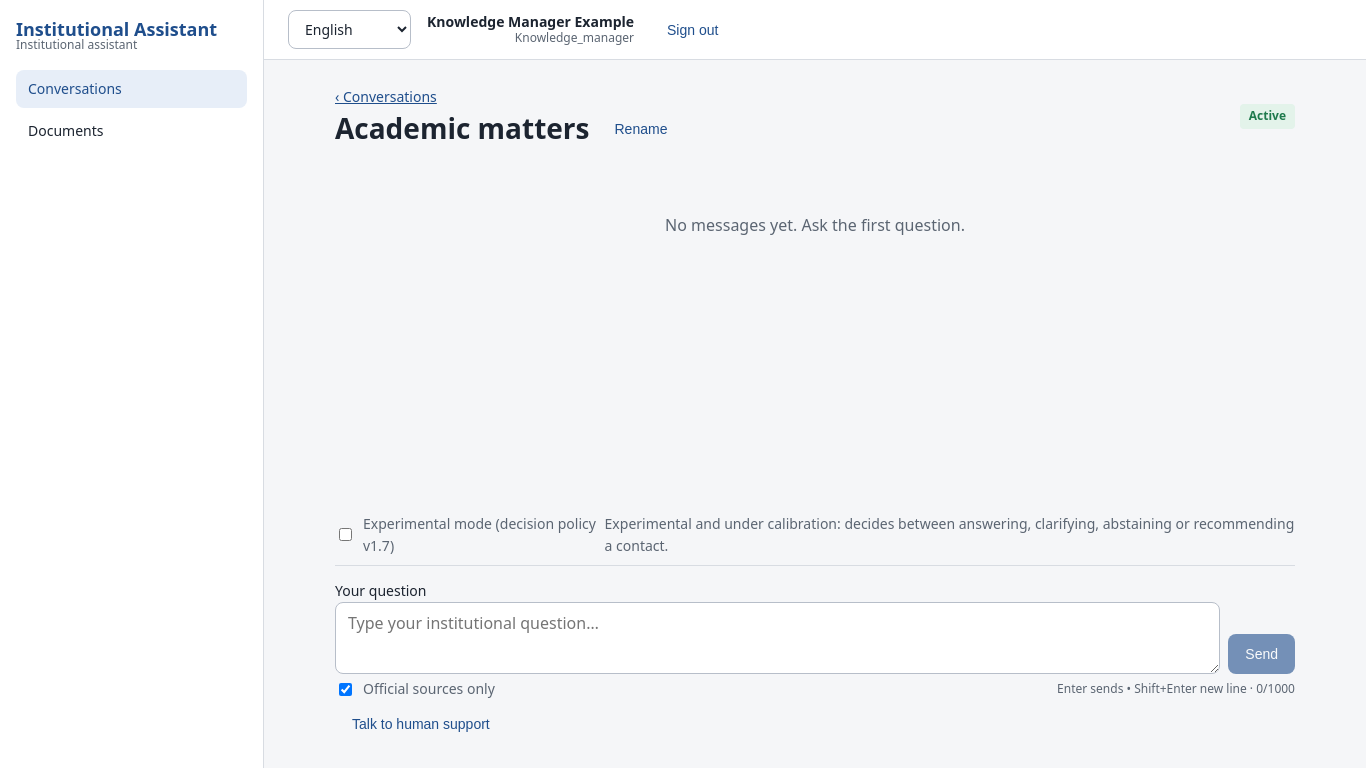
Scenario: experimental decision policy mode › keeps B0 as the default and uses the policy endpoint only when selected
Click the checkbox labelled "Experimental mode (decision policy v1.7)": point(346, 535) [339, 528, 352, 541]
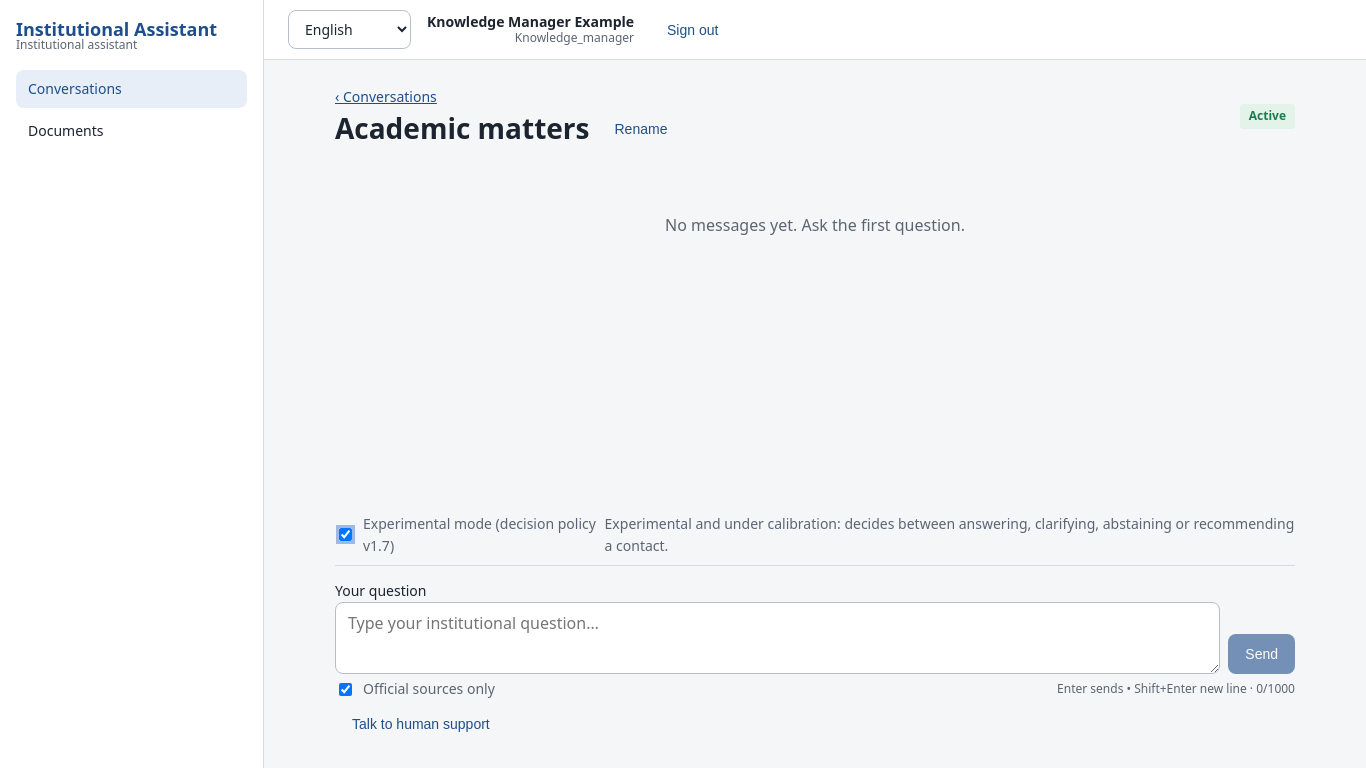
In the text box: point(778, 638) [335, 602, 1220, 674], type "Synthetic question"
Then press Enter
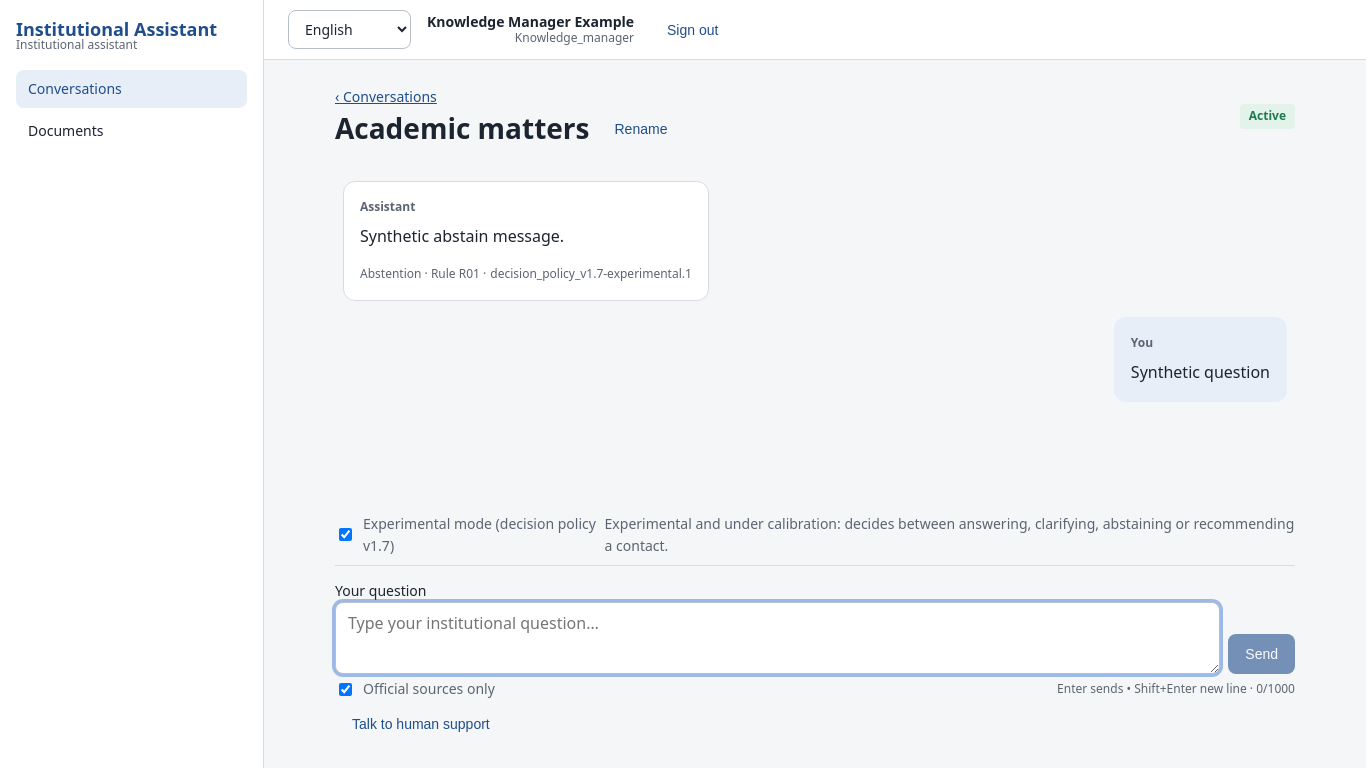
Expected: the text "Synthetic abstain message." is shown, [360, 225, 564, 247]
Expected: the text "Abstention · Rule R01 · decision_policy_v1.7-experimental.1" is shown, [360, 265, 692, 284]
